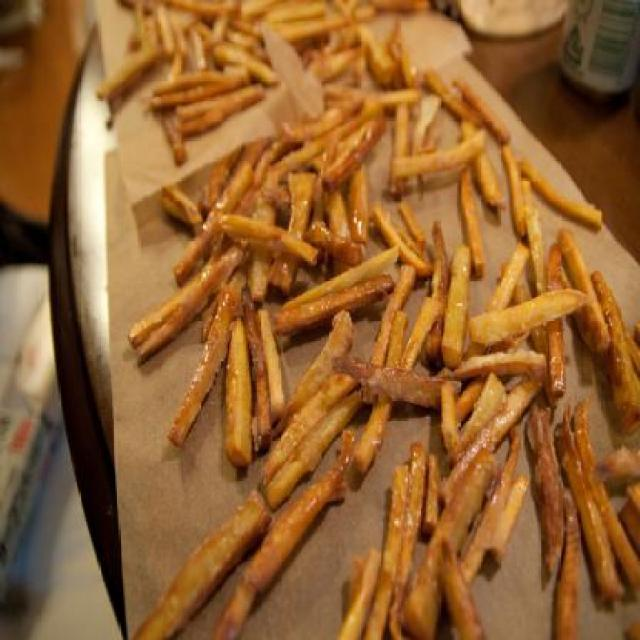French fries: (130, 0, 638, 638)
